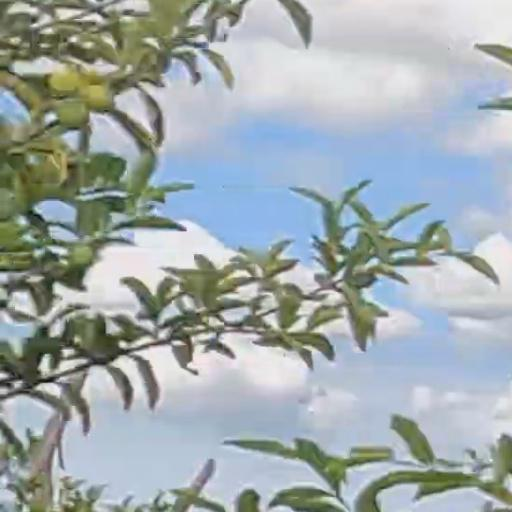acerola_verde: (59, 105, 90, 128), (84, 87, 111, 109)
